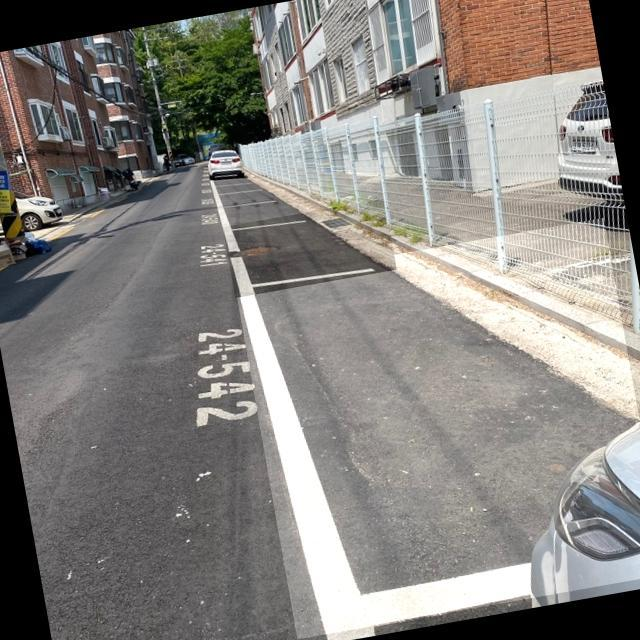empty: (235, 261, 640, 633), (223, 216, 396, 294)
